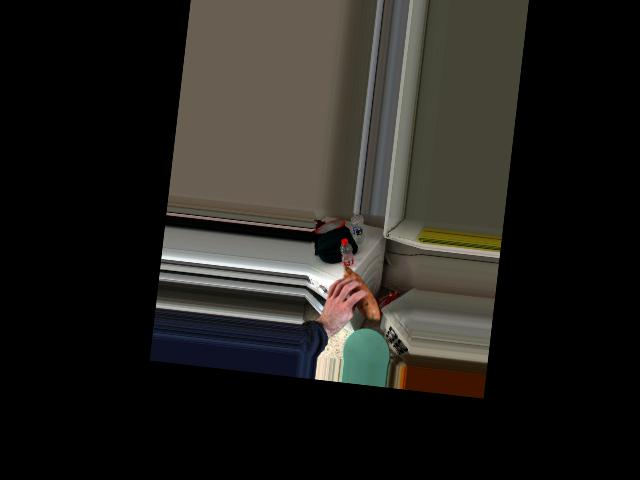sweet_potato: (328, 267, 383, 314)
